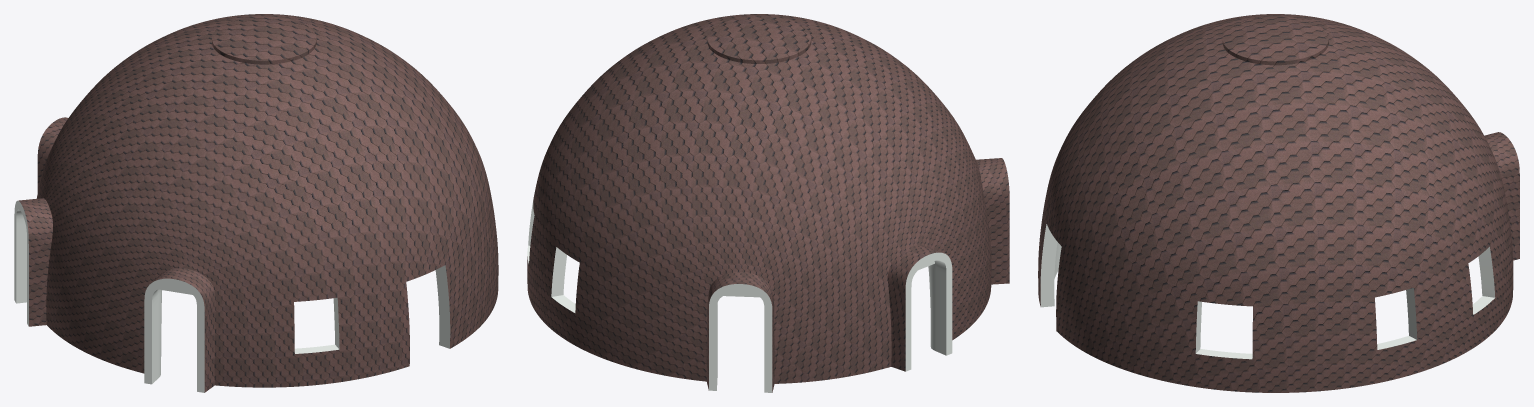
File: kupolas1.glb
3 views of the same model, side by side, from view 1: azimuth 30°, elevation 25°; view 2: azimuth 150°, elevation 25°; view 3: azimuth 270°, elevation 25° (orthographic). The views are drawn at different scales.
Parts seen in each view (by area): view 1: Kupolas; view 2: Kupolas; view 3: Kupolas.
Boxes of the visible parts, x1,y1,x2,y2 form: Kupolas: (14, 14, 498, 392); Kupolas: (527, 14, 1009, 392); Kupolas: (1038, 14, 1519, 392).
Bounding box in the file's own units: 1.03 × 0.6032 × 1.01.
2 materials, 1 textured.
